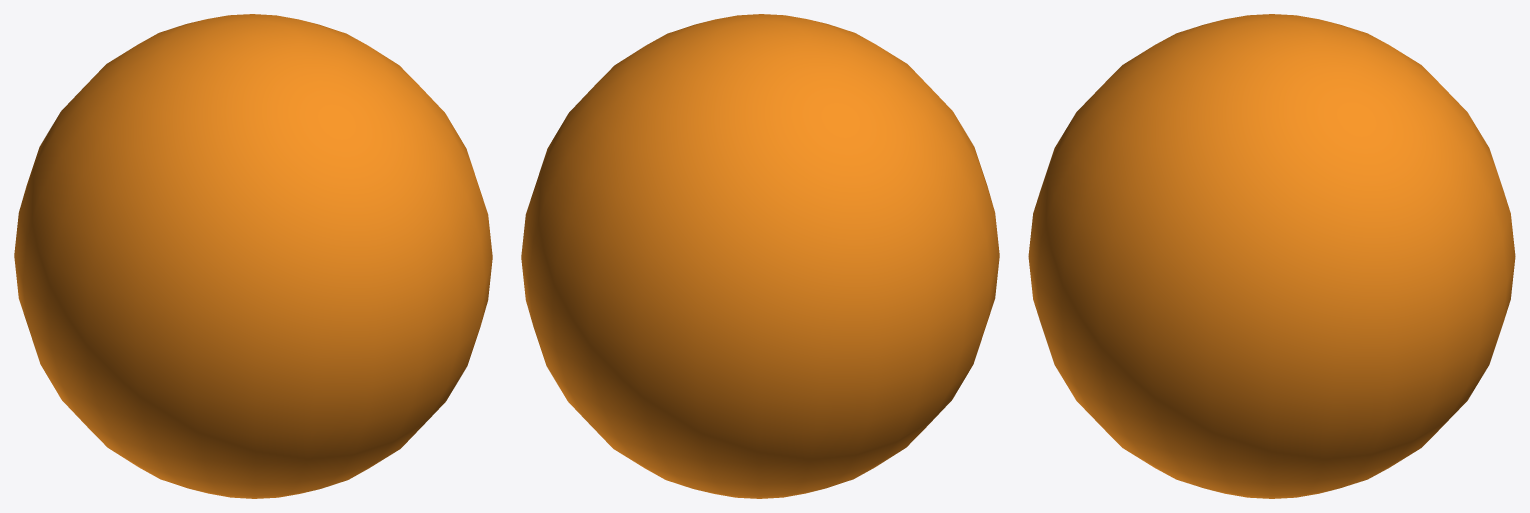
File: SM_EG_Fruit_orange_Plain_ee7be8fe9e.fbx
The picture shows the model from 3 angles, left to right: view 1: azimuth 30°, elevation 25°; view 2: azimuth 150°, elevation 25°; view 3: azimuth 270°, elevation 25°; orthographic projection.
Visible parts, largest first — view 1: SM_EG_Fruit_orange_Plain_ee7be8fe9e; view 2: SM_EG_Fruit_orange_Plain_ee7be8fe9e; view 3: SM_EG_Fruit_orange_Plain_ee7be8fe9e.
Part boxes in pixels (x1,y1,x2,y2): SM_EG_Fruit_orange_Plain_ee7be8fe9e: (14,14,492,498); SM_EG_Fruit_orange_Plain_ee7be8fe9e: (521,14,999,498); SM_EG_Fruit_orange_Plain_ee7be8fe9e: (1028,14,1515,498).
Size of what is drawn, in the model's own units: 19.6 by 20 by 20.
